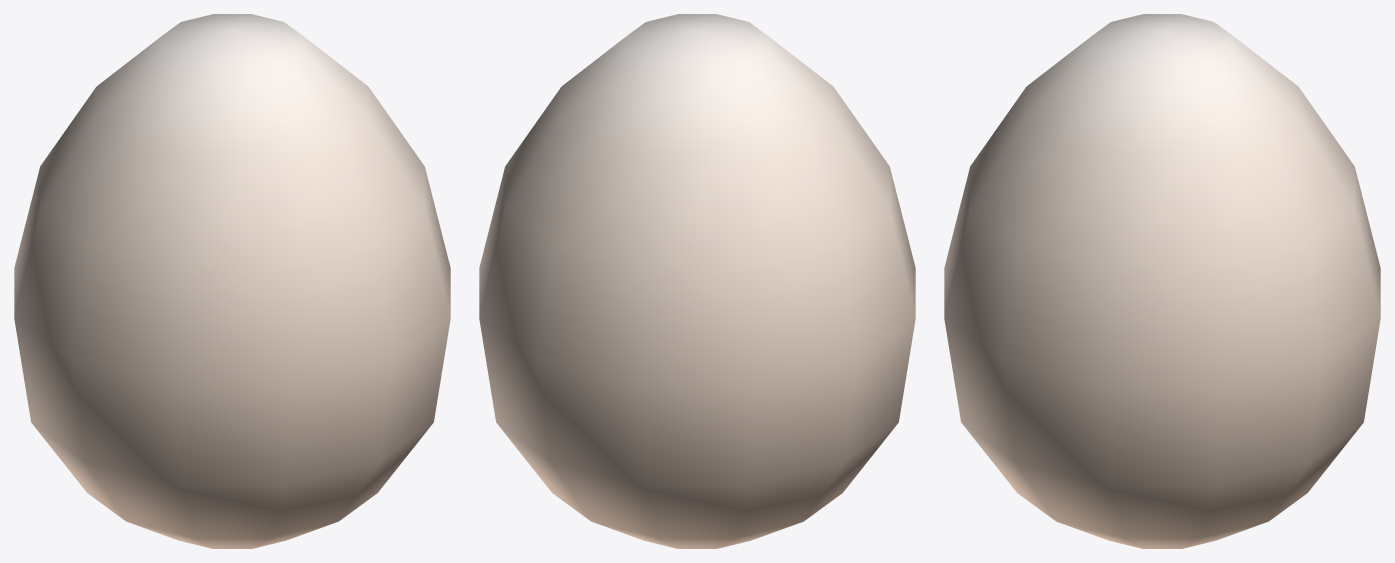
Rendered from egg-a.glb.
The picture shows the model from 3 angles, left to right: view 1: azimuth 30°, elevation 25°; view 2: azimuth 150°, elevation 25°; view 3: azimuth 270°, elevation 25°; orthographic projection.
Parts seen in each view (by area): view 1: egg_A; view 2: egg_A; view 3: egg_A.
Part boxes in pixels (x1,y1,x2,y2): egg_A: (14, 14, 450, 548); egg_A: (479, 14, 915, 548); egg_A: (944, 14, 1380, 548).
Bounding box in the file's own units: 0.2448 × 0.3077 × 0.2448.
Materials: 1 (1 with a texture image).
